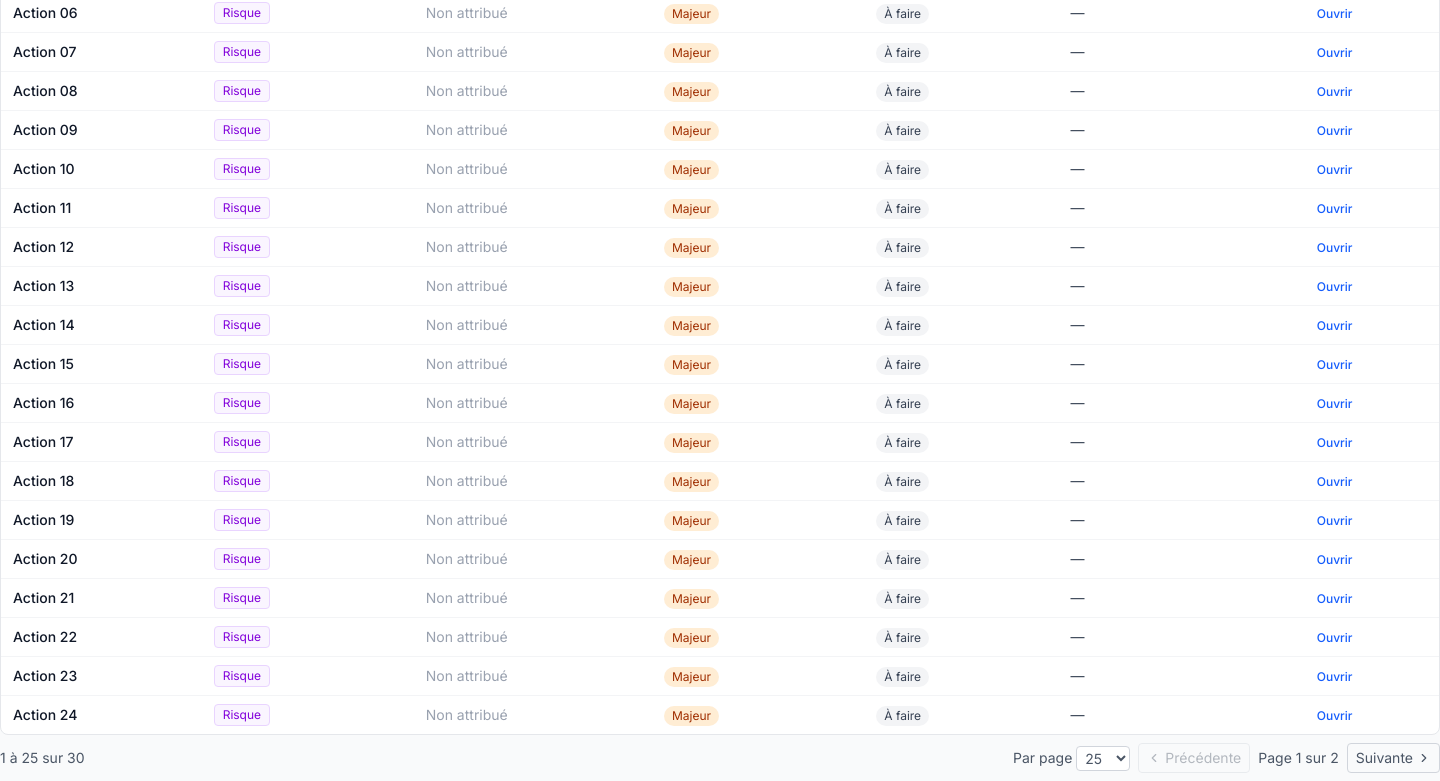
Test: PlansActionsView › pagination : seule la page demandée est rendue ; changer de page passe par l'URL
The image size is (1440, 781).
(page scrolled)
Expected: the text "1 à 25 sur 30" is shown, [0,748,85,768]
What coordinates should you click on to do the following:
click the button "Suivante"
I would click on:
 (1393, 758)
Its box is [1347,743,1439,773].
(page scrolled)
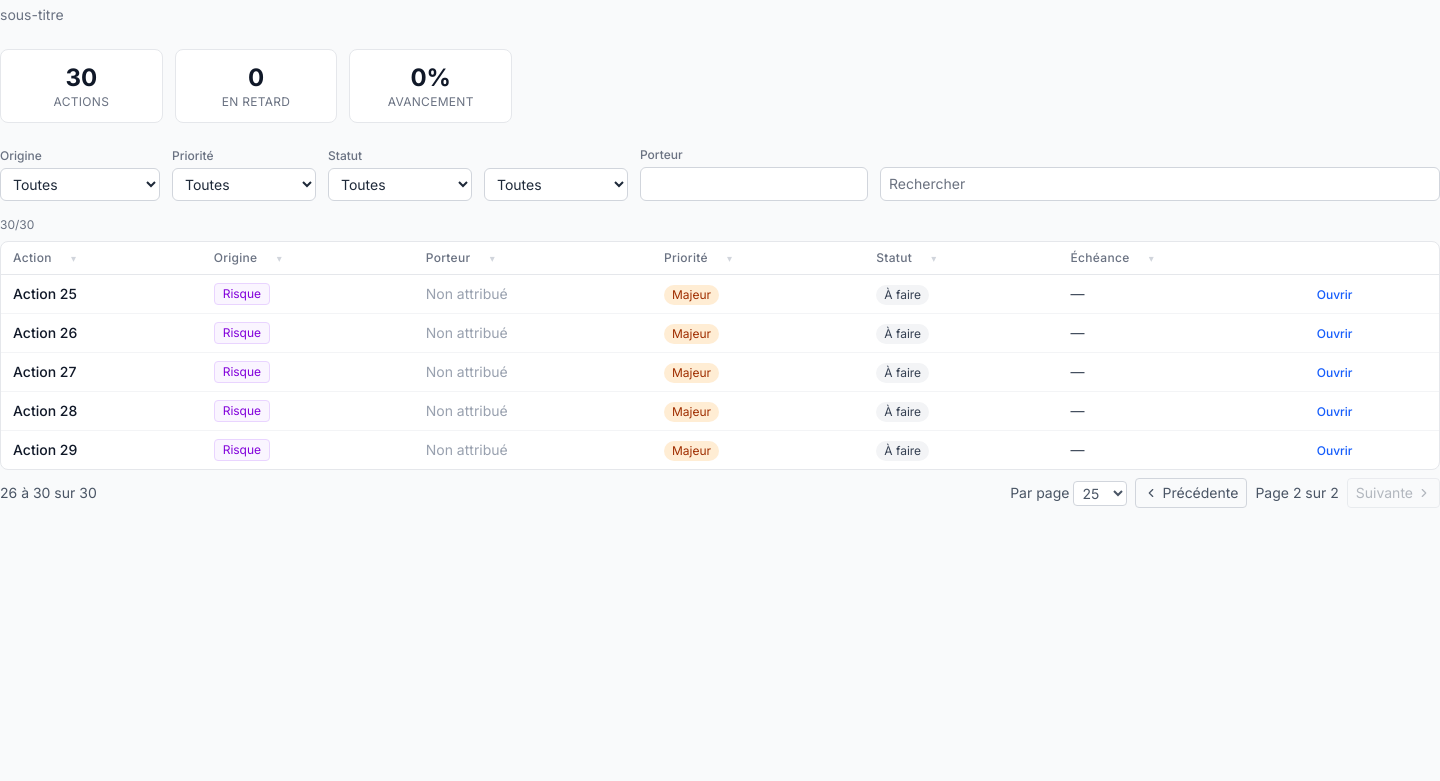
Expected: the text "Action 29" is shown 2 times
Expected: the text "Action 00" is not shown
